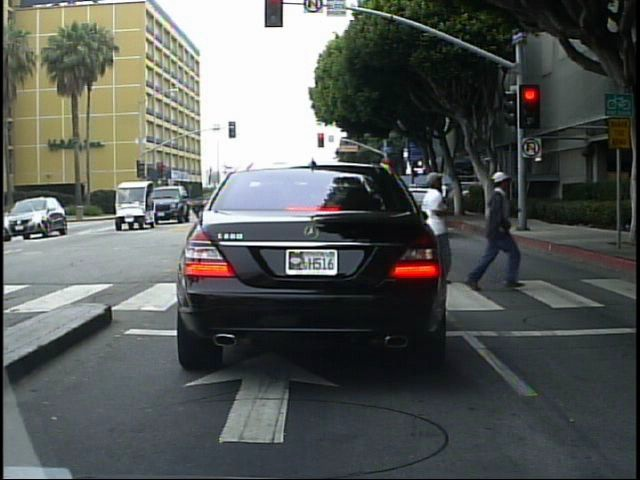person: (399, 163, 451, 287), (466, 170, 518, 292), (438, 179, 452, 209)
